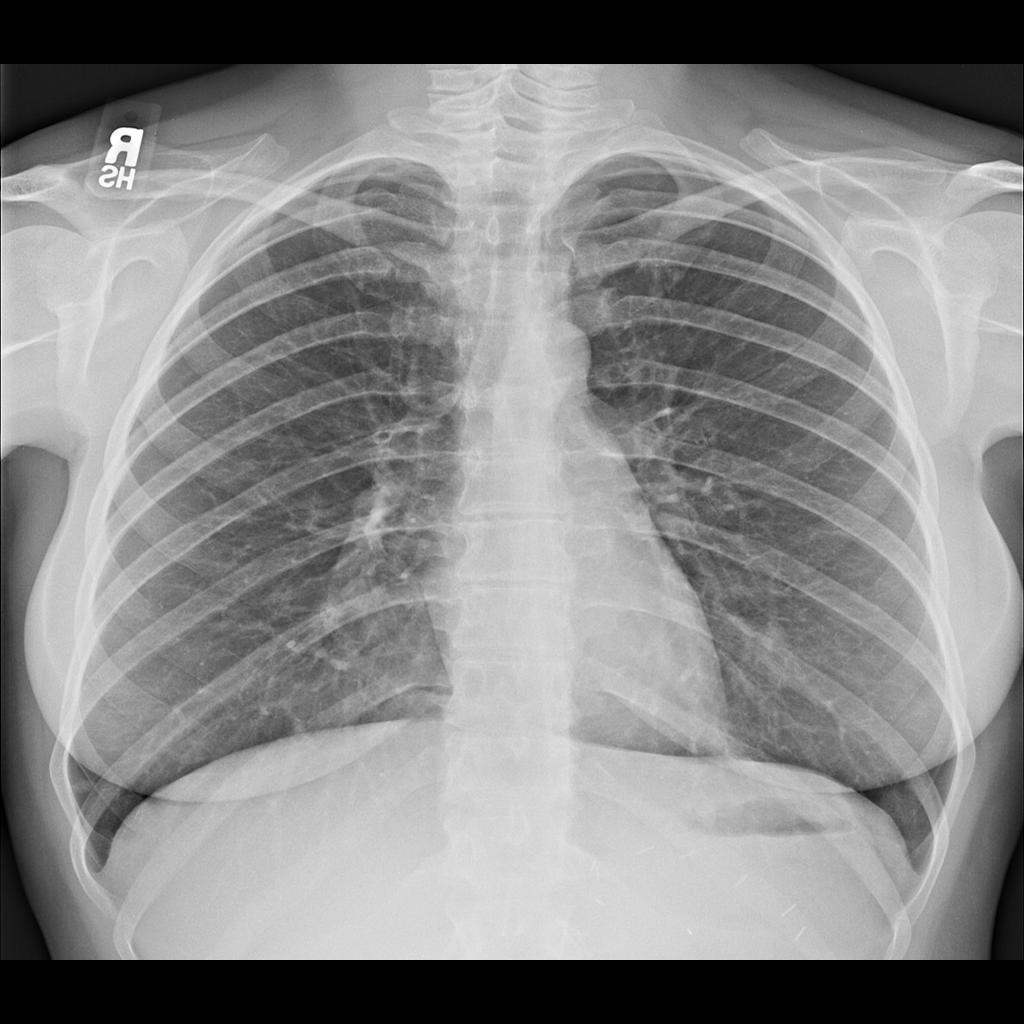Nodule: (757, 615, 792, 656)
